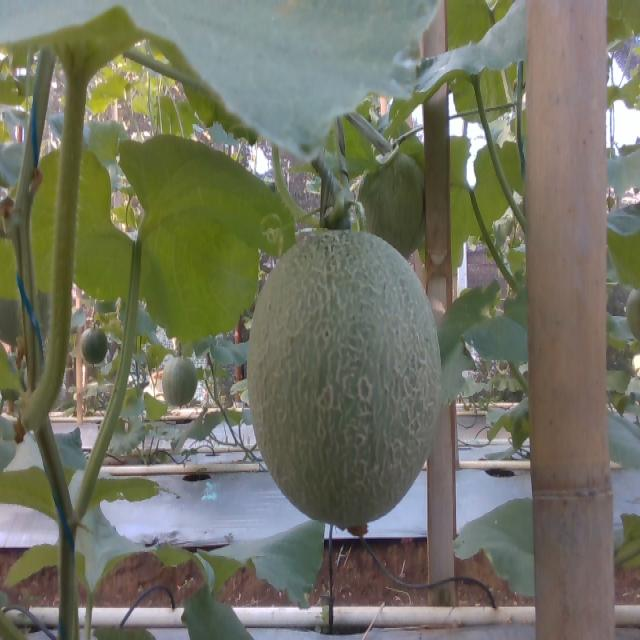melon: (249, 231, 442, 529)
